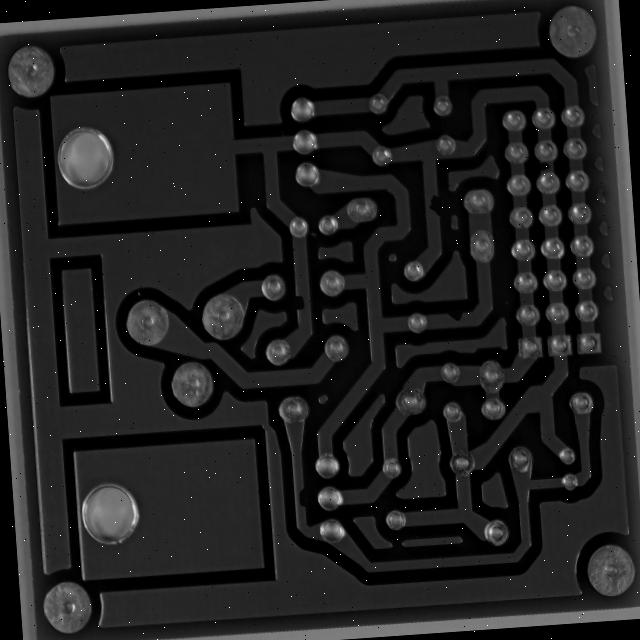mouse_bite: (423, 179, 450, 213), (443, 299, 474, 328), (291, 480, 315, 510), (292, 280, 317, 308), (541, 145, 562, 165)
